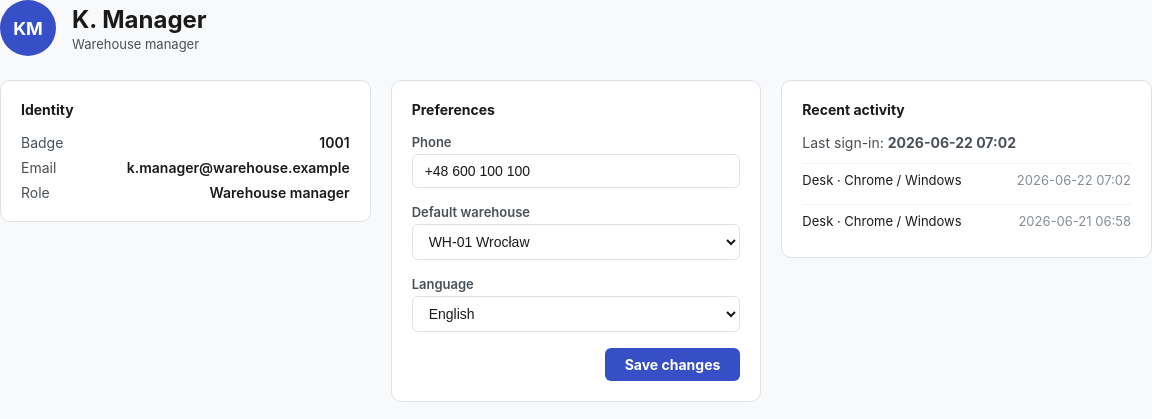
Test: ProfileScreen › saves an edited preference
expect the text "k.manager@warehouse.example" is shown: met, box top-left (127, 159), bottom-right (350, 176)
Replace the text in the field labelled "Phone" with "+48 600 999 999". click: (576, 171)
box: top-left (412, 154), bottom-right (740, 188)
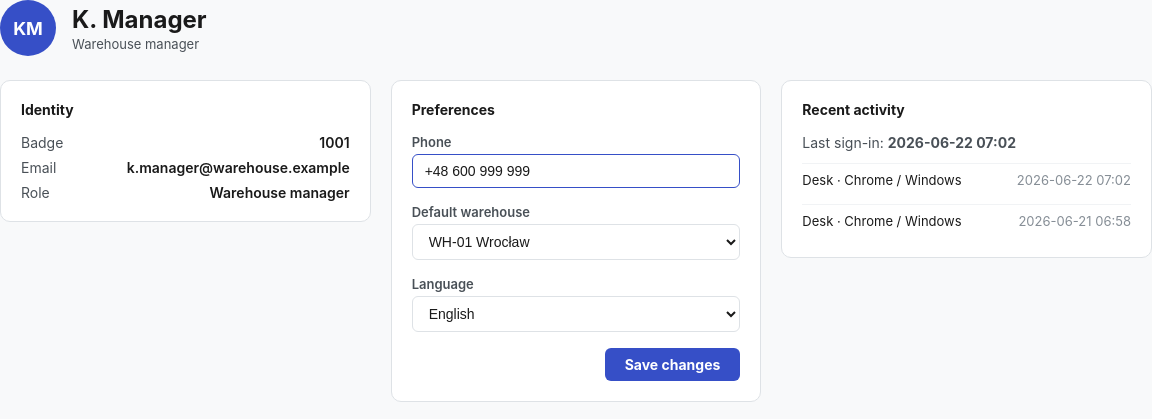
Click the button "Save changes". click: (672, 364)
box: top-left (605, 348), bottom-right (740, 381)
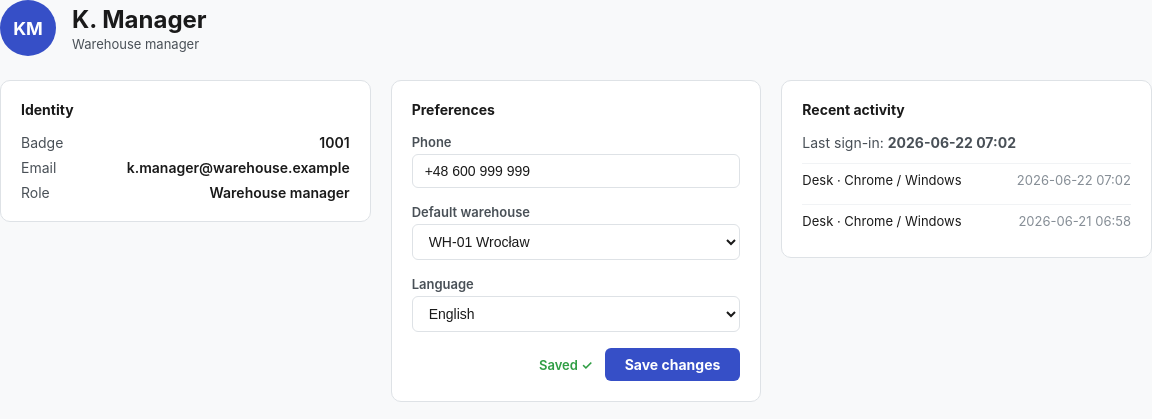
expect the text "Saved ✓" is shown: met, box top-left (539, 356), bottom-right (593, 372)
